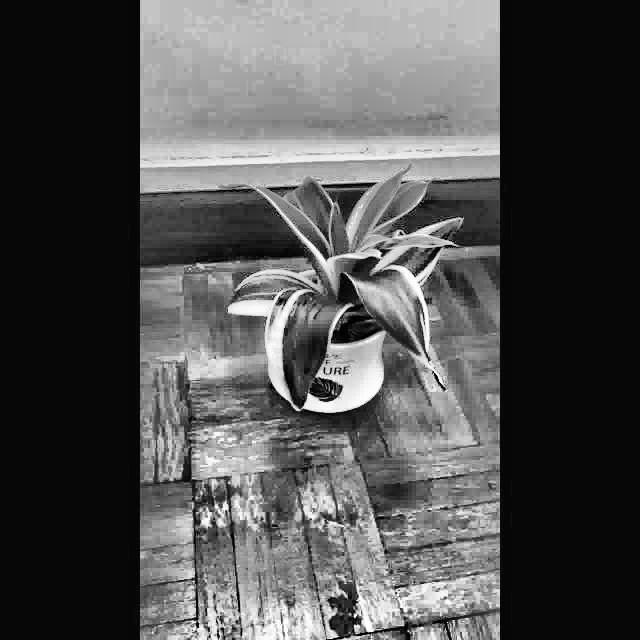plants: (222, 160, 470, 424)
